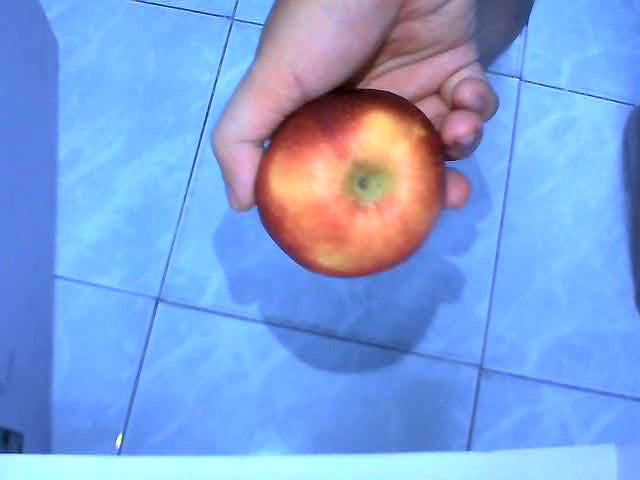apple: (254, 85, 448, 281)
